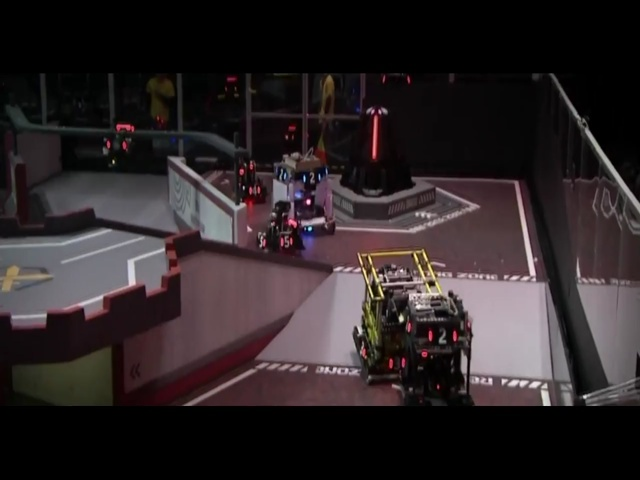bluePlate: (313, 142, 343, 164), (432, 323, 456, 347), (219, 195, 240, 217), (376, 316, 387, 345), (188, 195, 202, 213)
redPlate: (181, 314, 228, 344), (250, 302, 264, 328), (271, 141, 285, 162)
